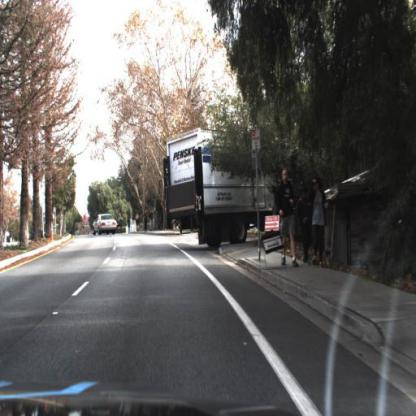car: (92, 213, 119, 237)
pedestrian: (308, 175, 329, 271), (278, 166, 295, 264), (298, 191, 312, 266), (95, 213, 121, 237), (154, 206, 159, 231), (144, 209, 149, 233), (136, 213, 141, 233), (121, 217, 126, 235), (150, 210, 154, 232), (128, 218, 132, 234)
truck: (163, 125, 275, 248)
